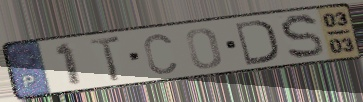0: (184, 27, 224, 70)
1: (53, 42, 87, 88)
C: (141, 32, 179, 77)
D: (233, 18, 280, 67)
S: (278, 13, 327, 61)
T: (88, 35, 124, 84)
